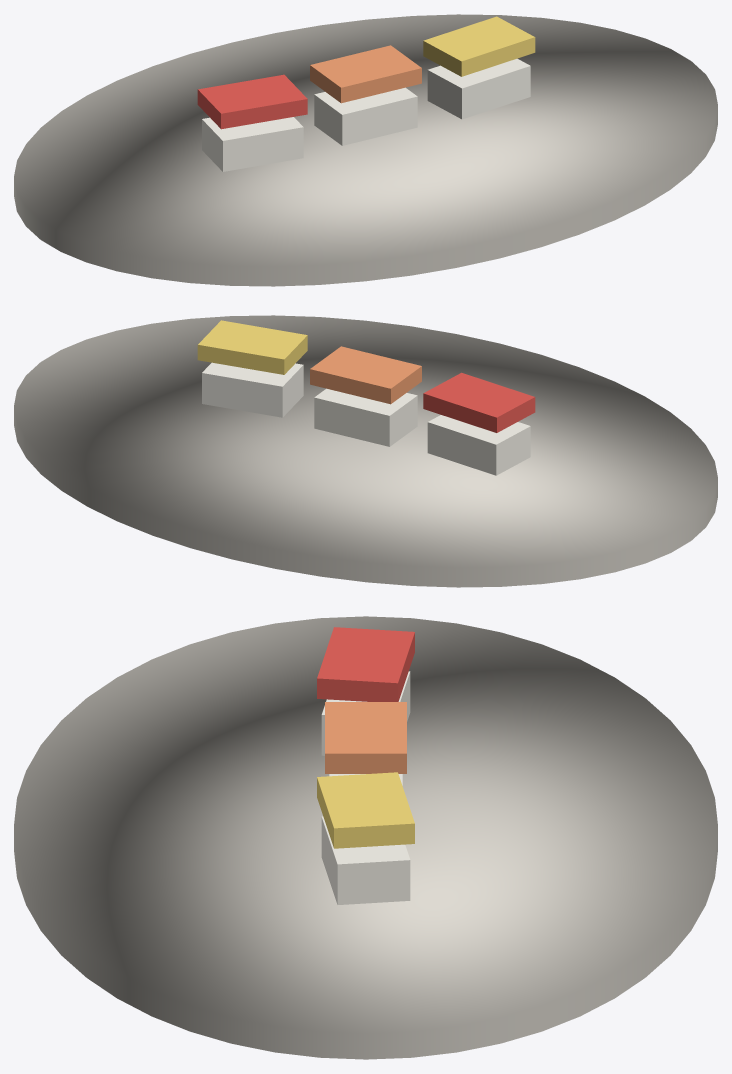
Rendered from chirashi_sushi.glb.
3 views of the same model, one above another, from view 1: azimuth 30°, elevation 25°; view 2: azimuth 150°, elevation 25°; view 3: azimuth 270°, elevation 25° (orthographic). The views are drawn at different scales.
Size of the model in its own units: 2.41 by 0.3325 by 1.72.
